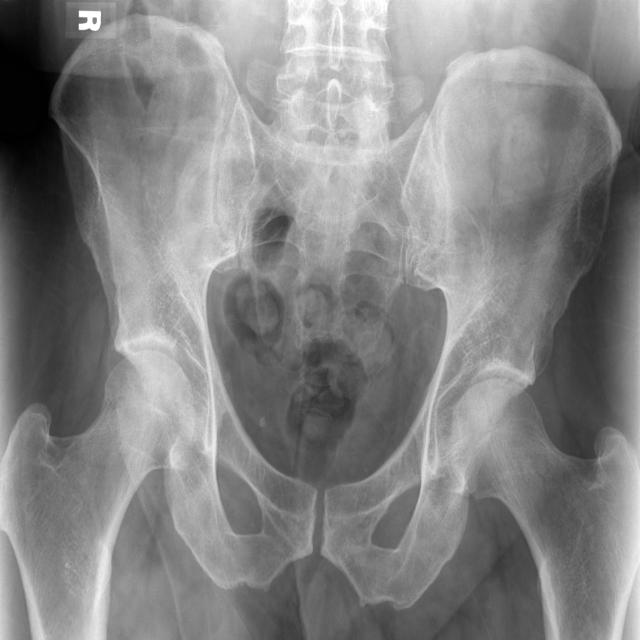normal-left: (451, 378, 639, 640)
normal-right: (0, 348, 197, 640)
